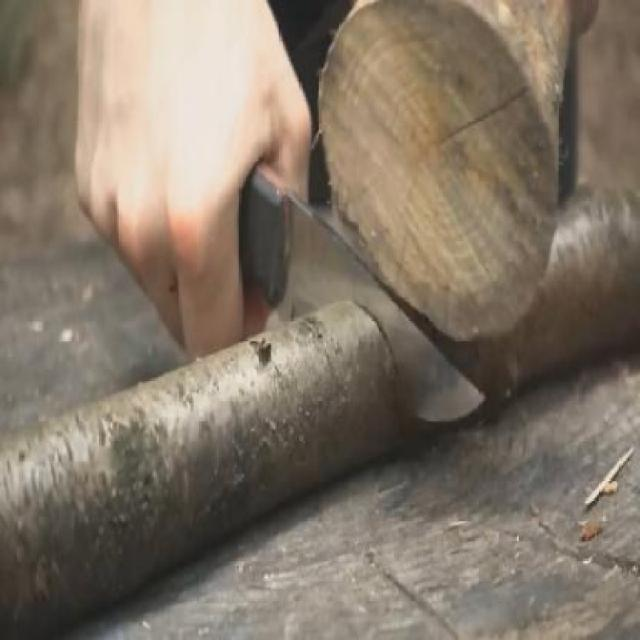knife: (196, 117, 498, 448)
